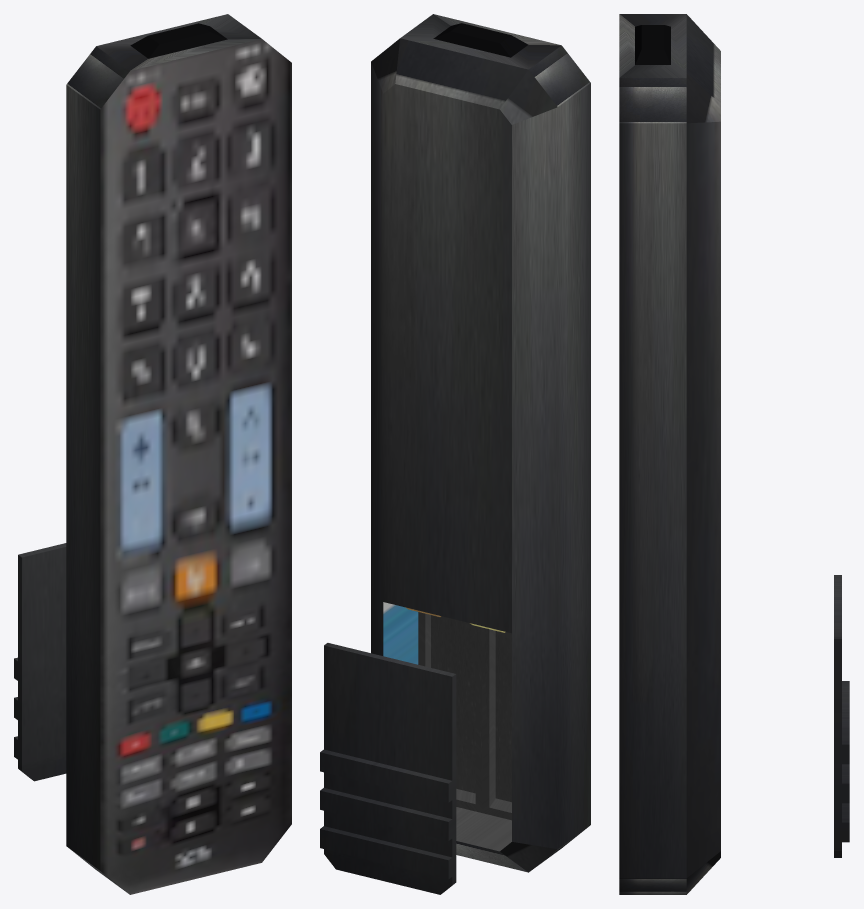
The model's file is remote control.FBX.
The picture shows the model from 3 angles, left to right: view 1: azimuth 30°, elevation 25°; view 2: azimuth 150°, elevation 25°; view 3: azimuth 270°, elevation 25°; orthographic projection. The views are drawn at different scales.
Parts seen in each view (by area): view 1: Object006, Box001, Object001, Object005; view 2: Box001, Object001, Object004, Object003, Object005; view 3: Box001, Object001, Object005.
Boxes of the visible parts, box(x1,y1,x2,y2) form: Object006: box(100, 39, 291, 894); Box001: box(66, 14, 261, 892); Object001: box(14, 543, 66, 781); Object005: box(130, 23, 227, 58); Box001: box(371, 14, 590, 872); Object001: box(320, 643, 456, 894); Object004: box(418, 612, 511, 851); Object003: box(383, 602, 418, 664); Object005: box(433, 23, 528, 57); Box001: box(619, 14, 720, 894); Object001: box(834, 575, 849, 857); Object005: box(635, 25, 670, 64).
Bounding box in the file's own units: 26.81 × 111 × 28.14.
Materials: 6 (6 with a texture image).
